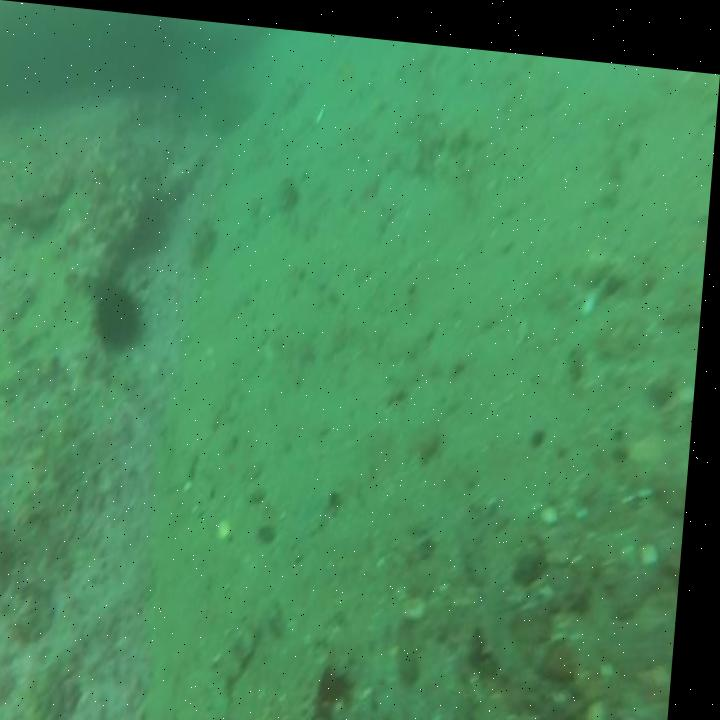echinus: (92, 260, 153, 353), (135, 181, 174, 257)
